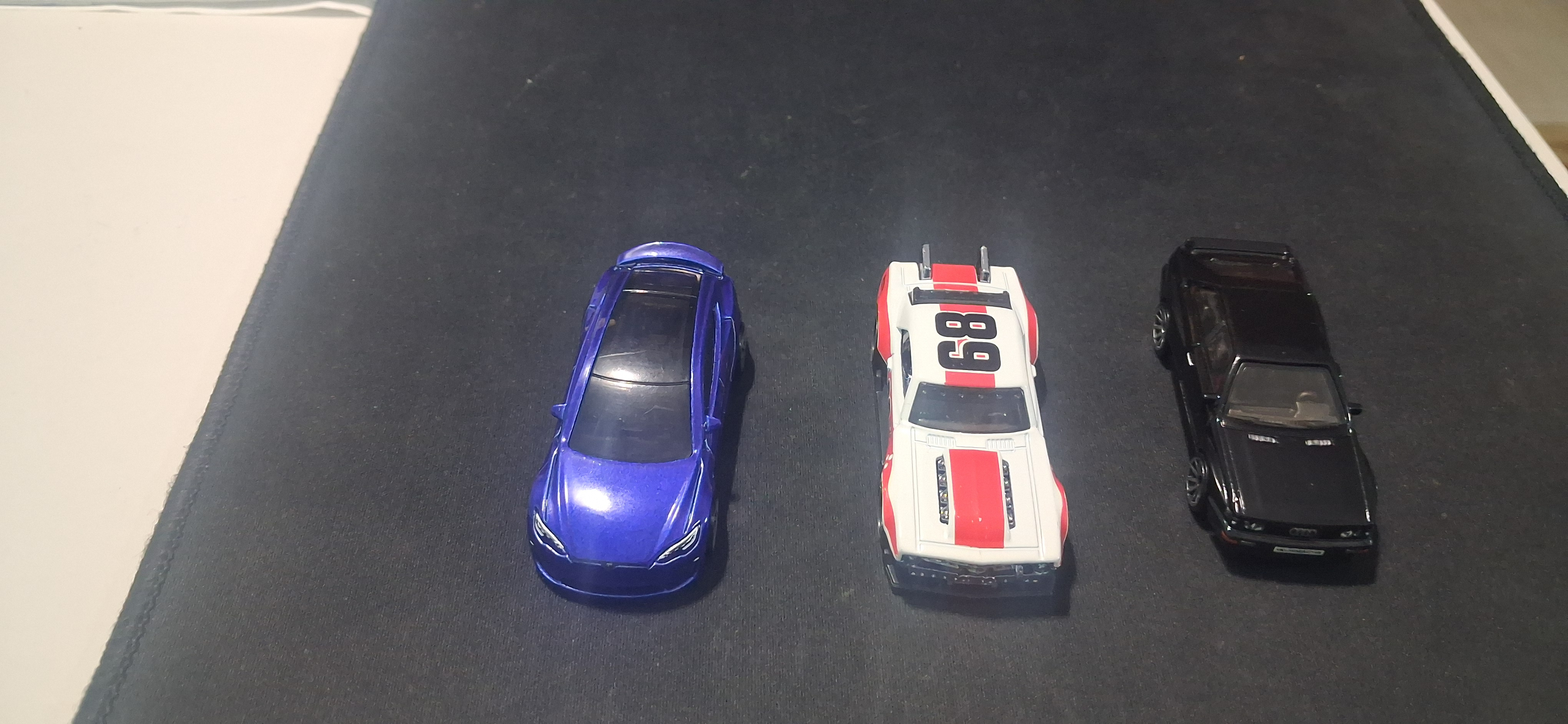Audi_Quattro: (1122, 209, 1401, 661)
Camaro: (842, 209, 1098, 639)
Tesla_Model_S_Plaid: (506, 204, 763, 662)
